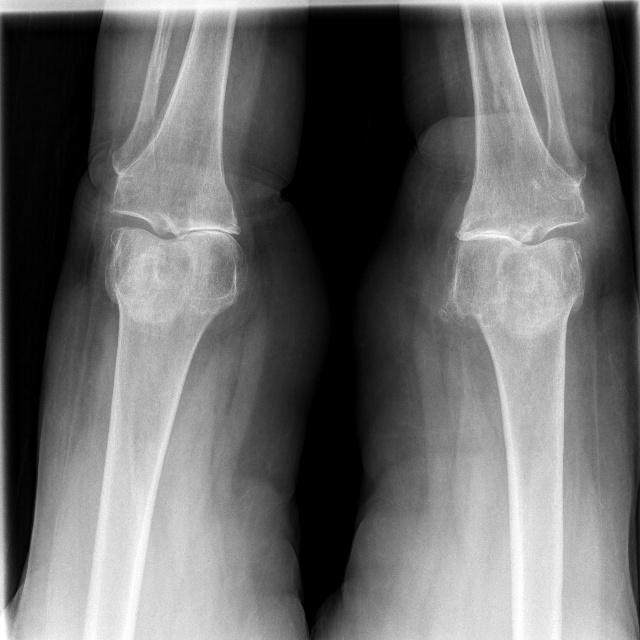Knee: (447, 168, 588, 305), (100, 166, 242, 299)
